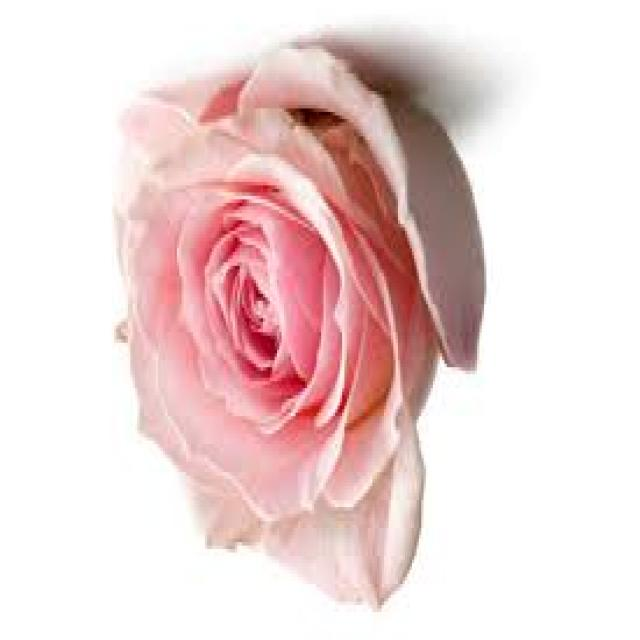rose: (95, 62, 492, 600)
